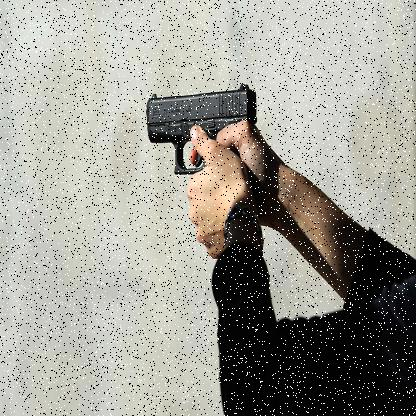pistol: (146, 83, 258, 180)
